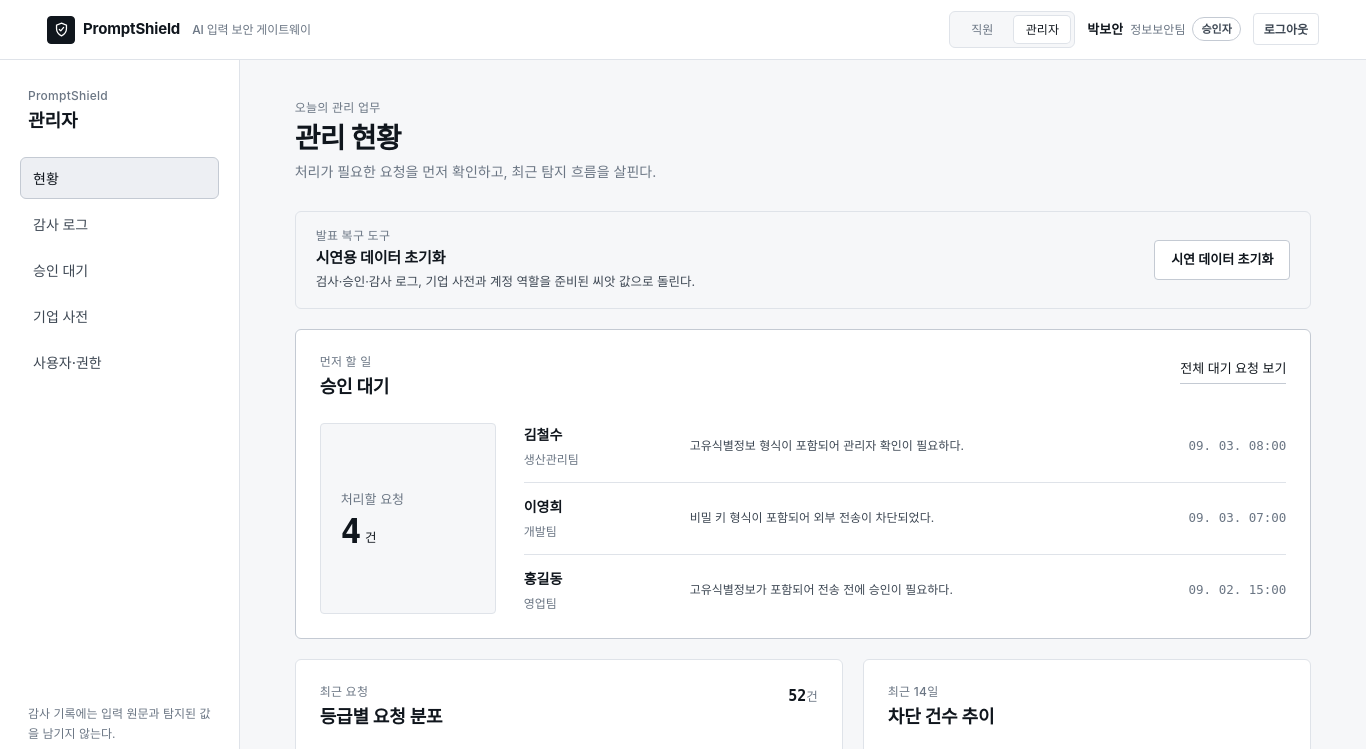
Test case: 시연 데이터 초기화 화면 › 승인자가 확인한 뒤 씨앗 값으로 되돌리고 현황을 다시 불러온다
Expected: the heading "시연용 데이터 초기화" is shown, [316,248,445,267]
Click the button "시연 데이터 초기화": (1222, 260) [1154,240,1290,280]
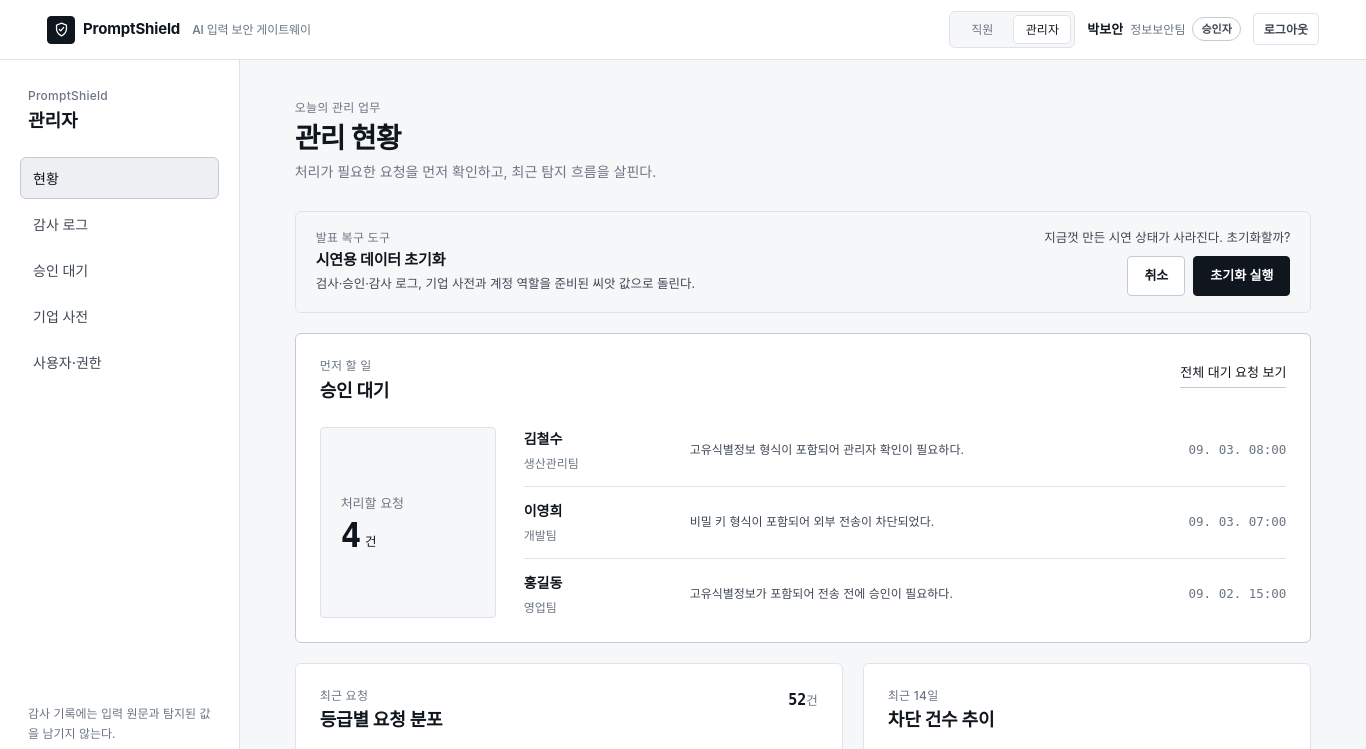
Result: the text "지금껏 만든 시연 상태가 사라진다. 초기화할까?" is shown at [1044,228,1290,248]
Click the button "초기화 실행": (1242, 276) [1193,256,1290,296]
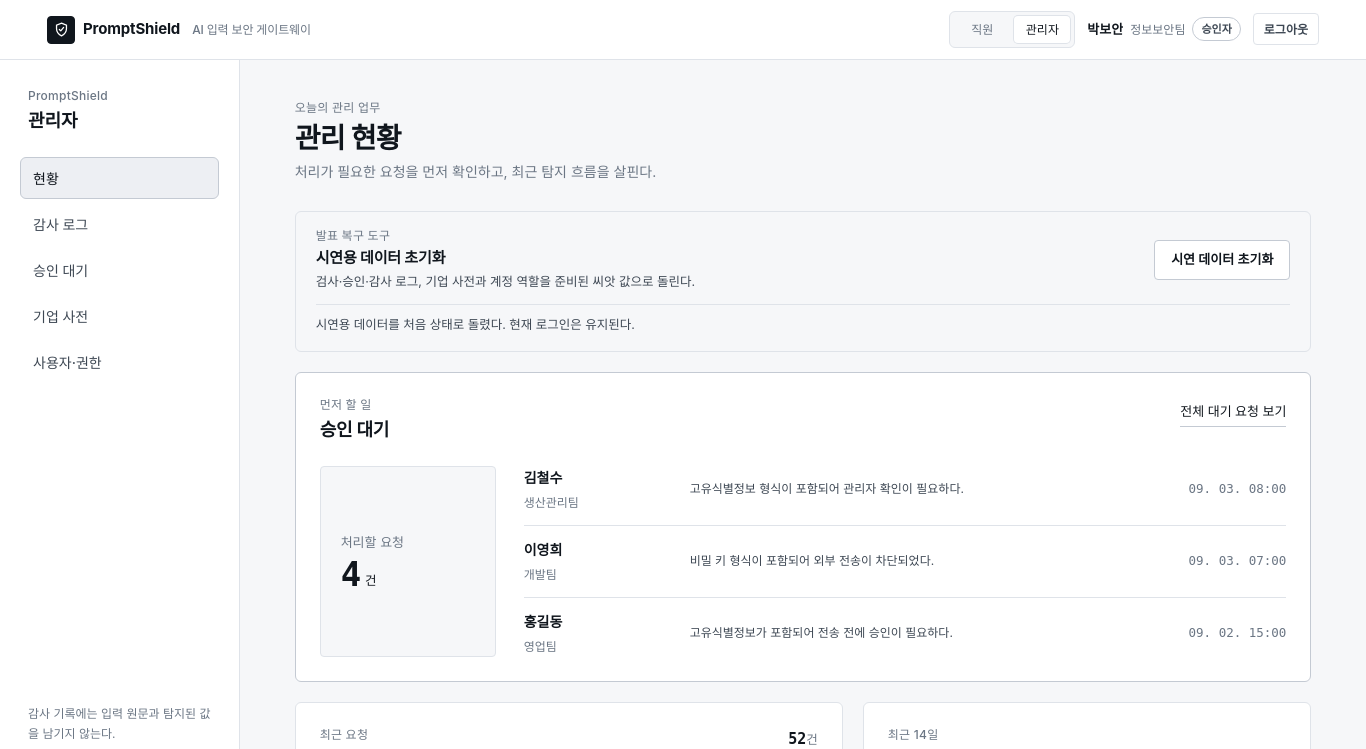
Expected: the element named "승인 대기 4건" is shown, [320,466,496,657]
Result: the message shows "처음 상태로 돌렸다" at [316,317,635,332]
